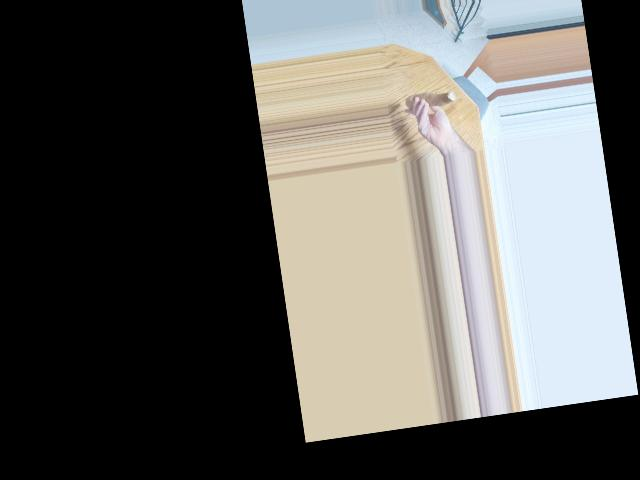sweet_potato: (407, 84, 451, 109)
